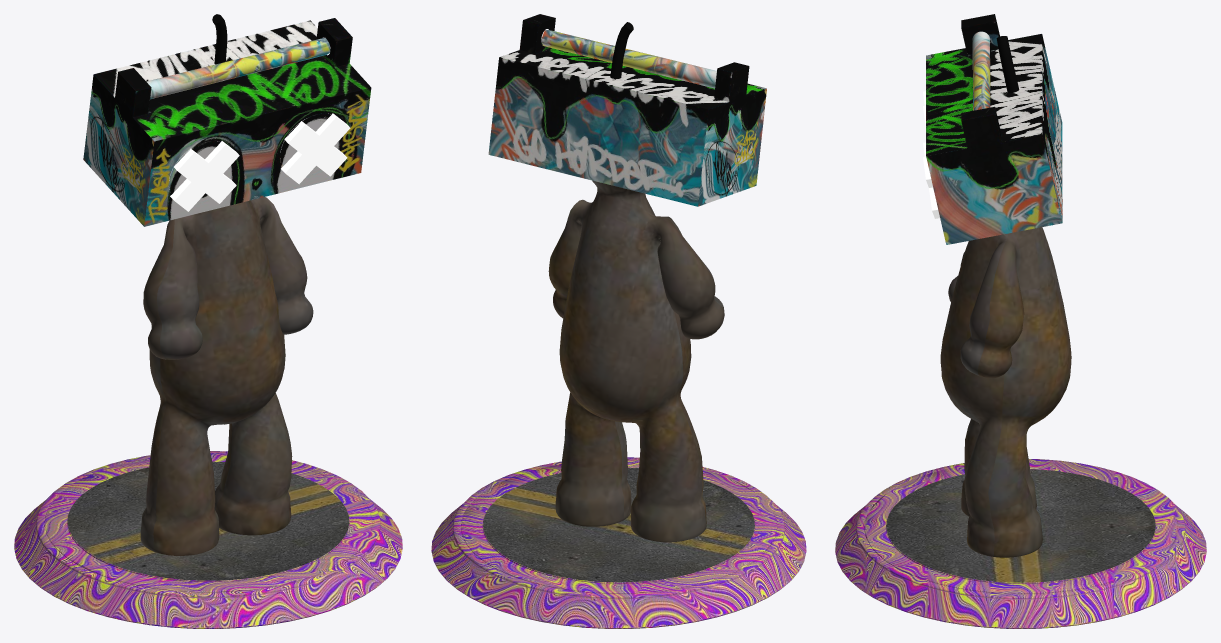
The picture shows the model from 3 angles, left to right: view 1: azimuth 30°, elevation 25°; view 2: azimuth 150°, elevation 25°; view 3: azimuth 270°, elevation 25°; orthographic projection. The views are drawn at different scales.
Size of the model in its own units: 1.45 by 2.21 by 1.45.
Materials: 6 (4 with a texture image).
